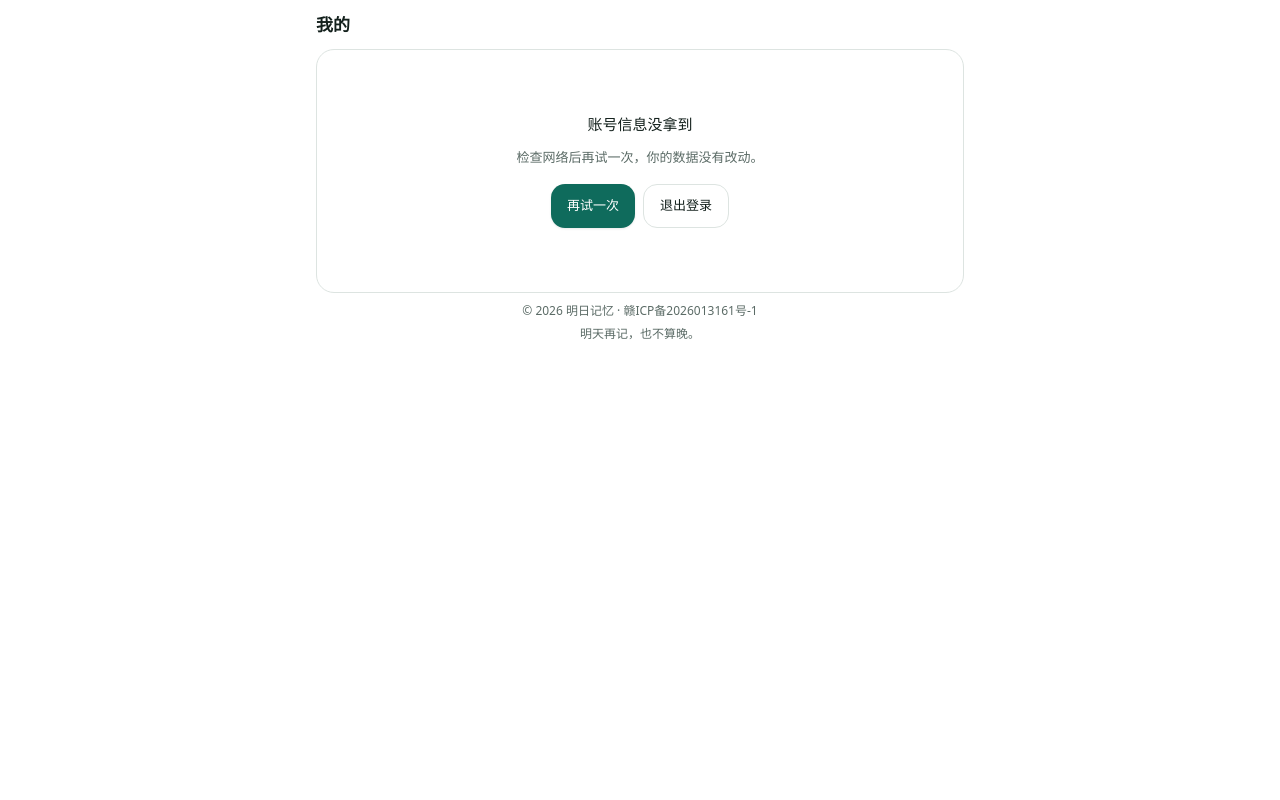
Scenario: M 组 · :998 访客引导条（B 区替换）与 :1001 拉取失败整页错误卡（T-19g-v 接线） › M-05 错误卡次按钮开的是 G 区那颗既有 ConfirmSheet（全页唯一退出确认）：取消卡还在，确认走 signOut() 落 #/login
Later steps or results of the test are not shown.
Click the button "退出登录" at x=686, y=206, box left=643, top=184, right=729, bottom=228
Wait 80 ms
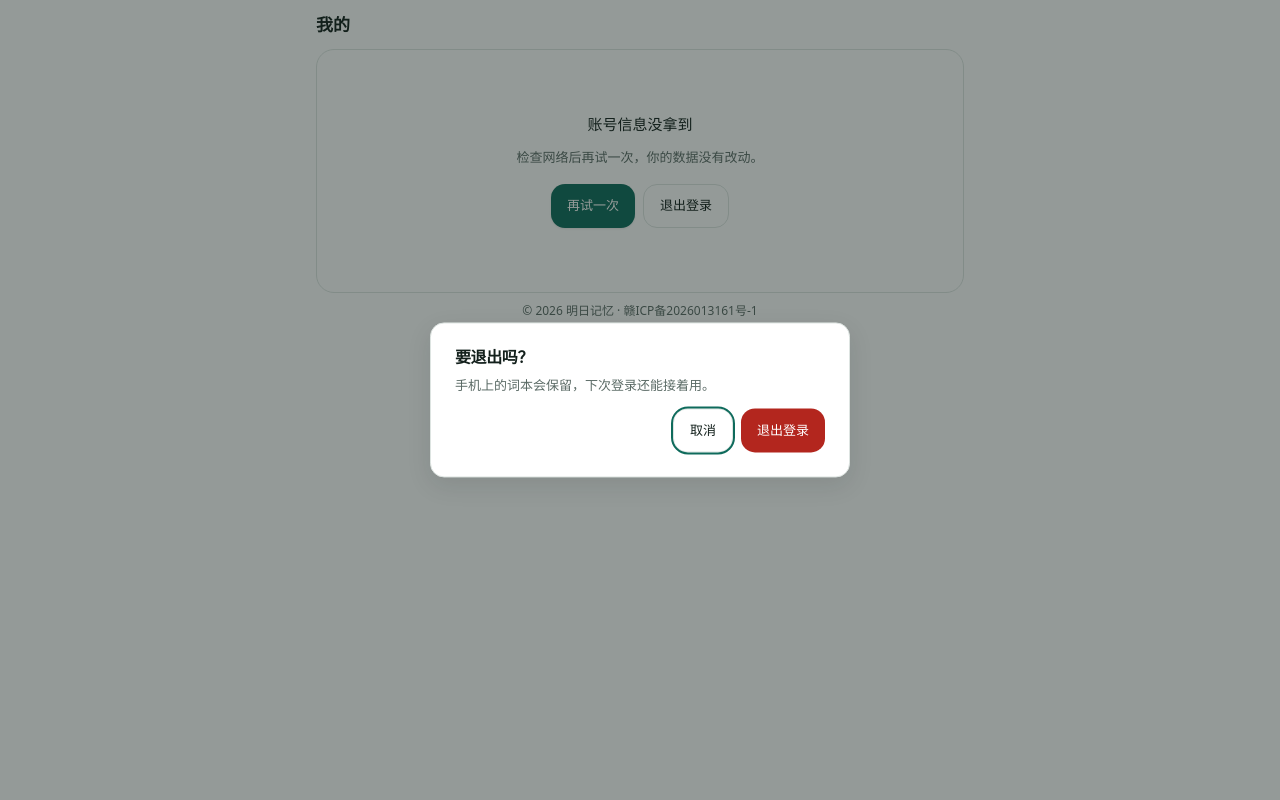
Expected: the number of dialogs with test id "me-signout" is 1, left=430, top=322, right=850, bottom=478
Click the button "取消" at x=703, y=431, box left=673, top=409, right=733, bottom=453
Wait 80 ms
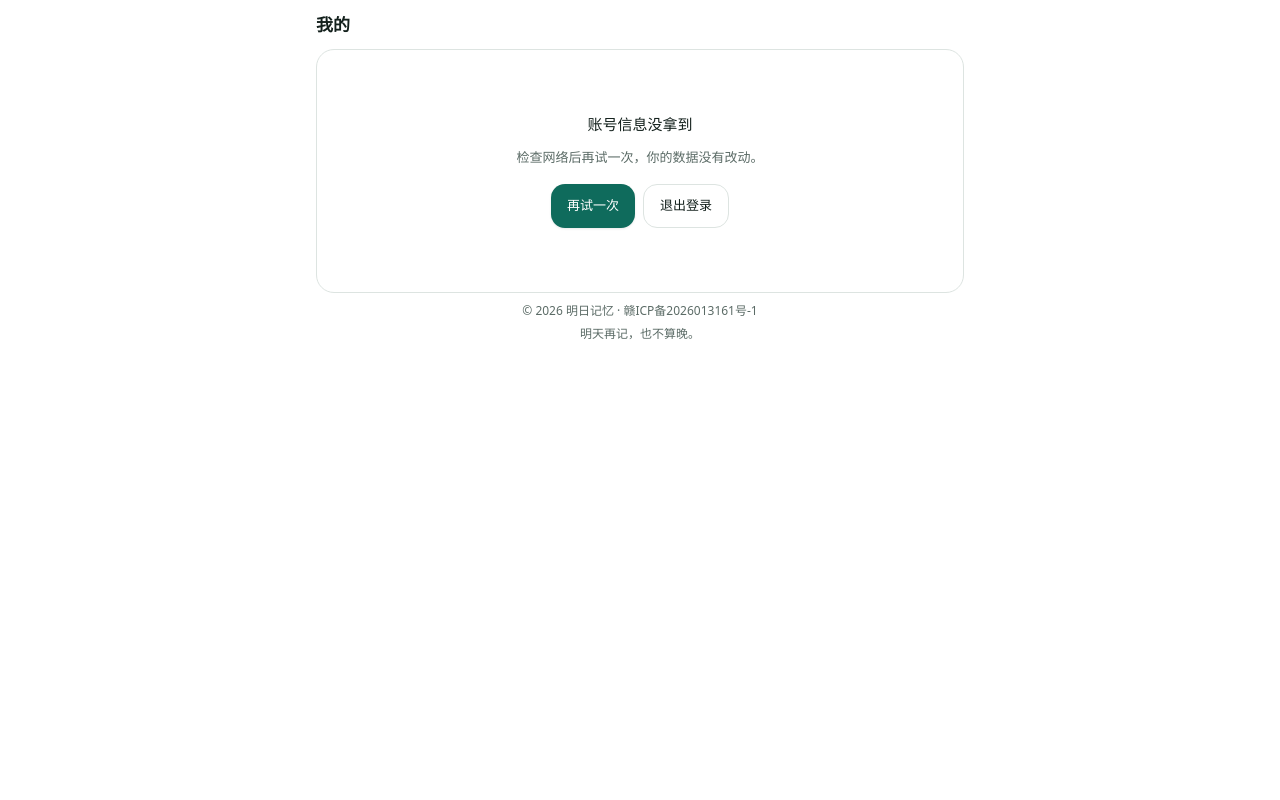
Expected: the element with test id "me-fetch-fail" is shown, left=516, top=114, right=764, bottom=228
Expected: the dialog with test id "me-signout" is gone
